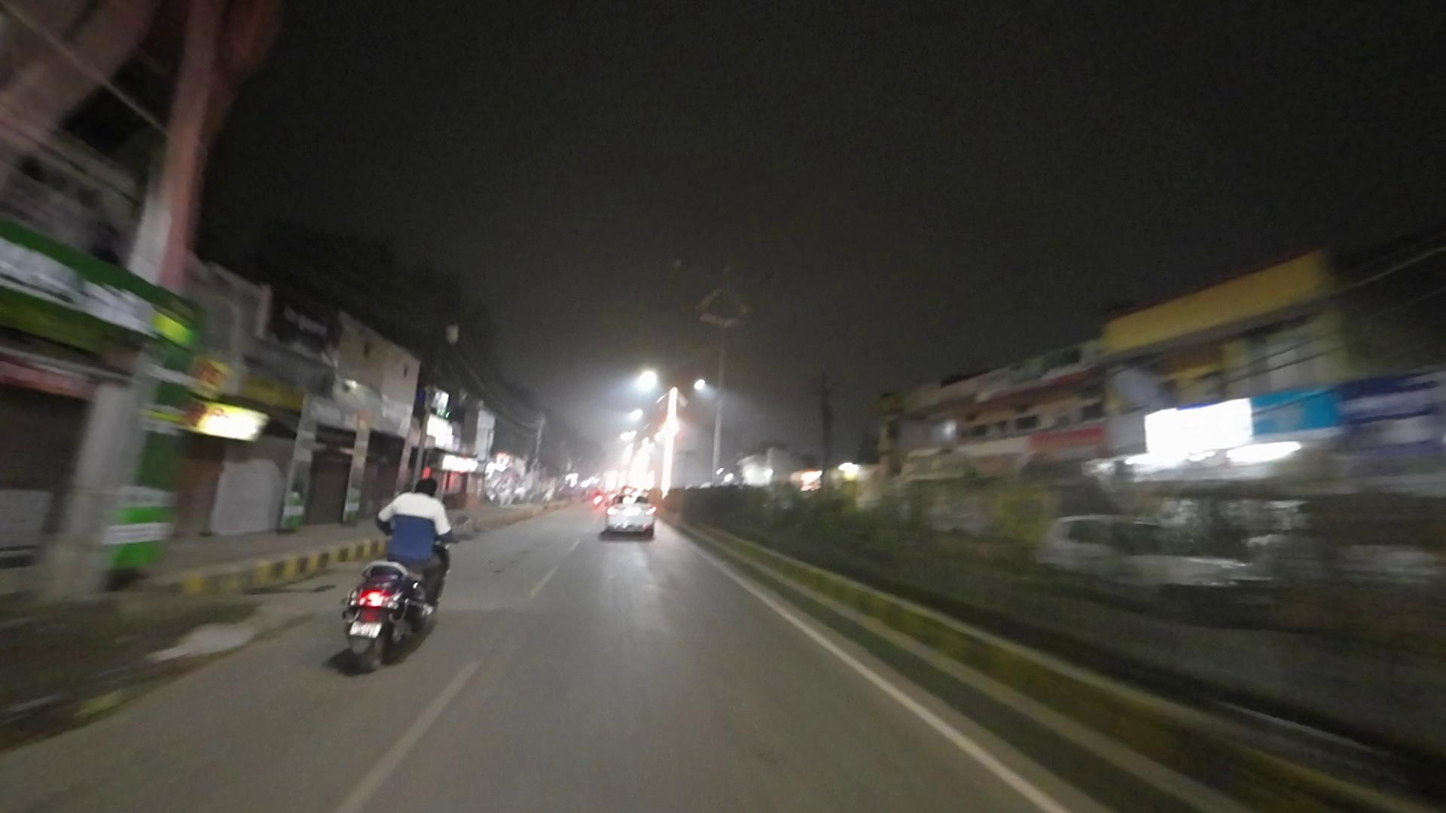streetlight: (670, 258, 720, 280), (732, 270, 782, 285)
